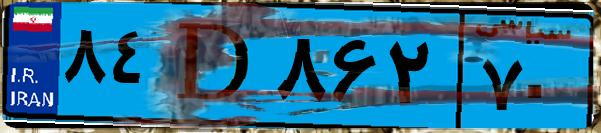0: (525, 38, 570, 115)
2: (385, 28, 445, 110)
4: (110, 28, 158, 98)
6: (330, 28, 385, 110)
7: (475, 38, 525, 113)
8: (270, 28, 330, 110), (57, 26, 110, 100)
D: (158, 12, 270, 120)
